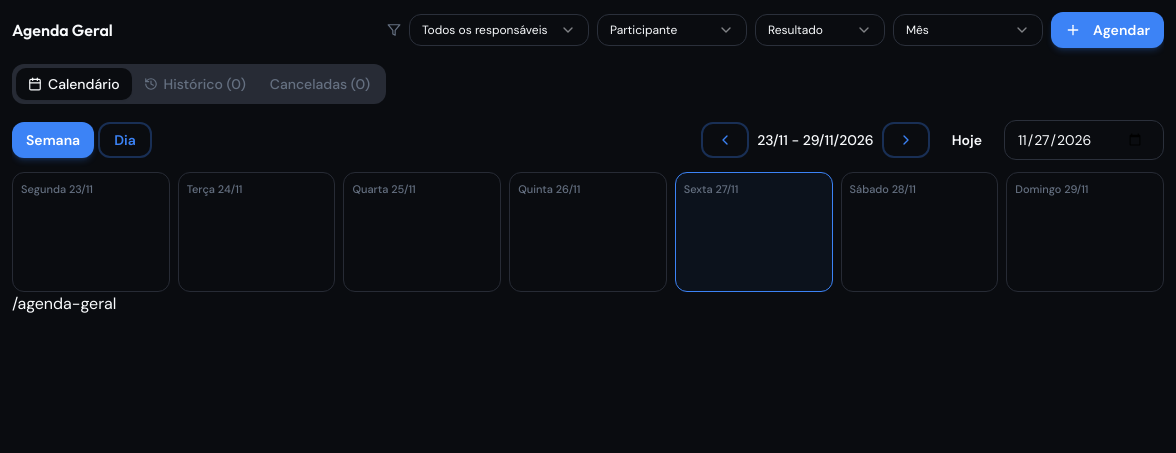
isolates a day and preserves blocks when navigating across weeks
Click the button "Dia" at (125, 140), box [98,122,152,158]
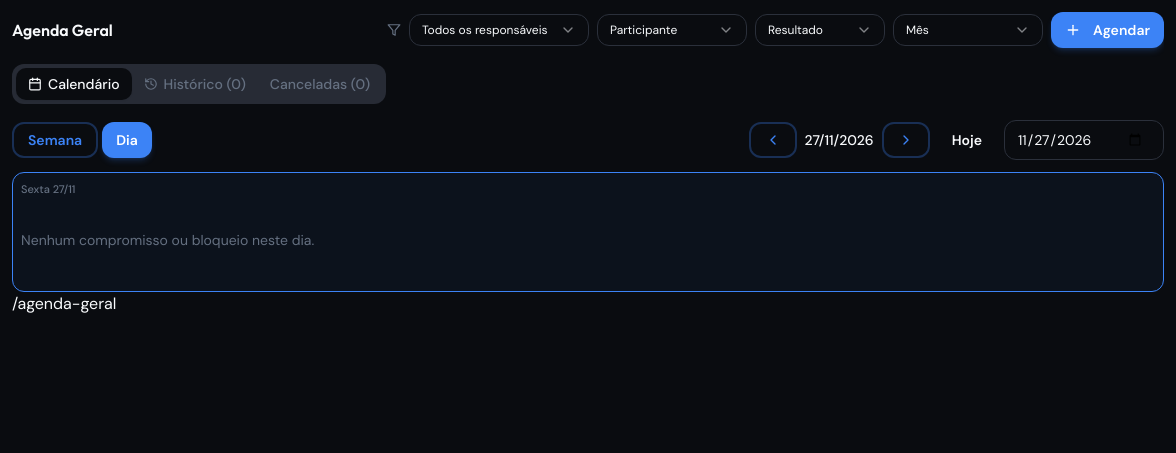
Type "2026-10-25" into the date field named "Data da agenda" at (1084, 140), box [1004,120,1164,160]
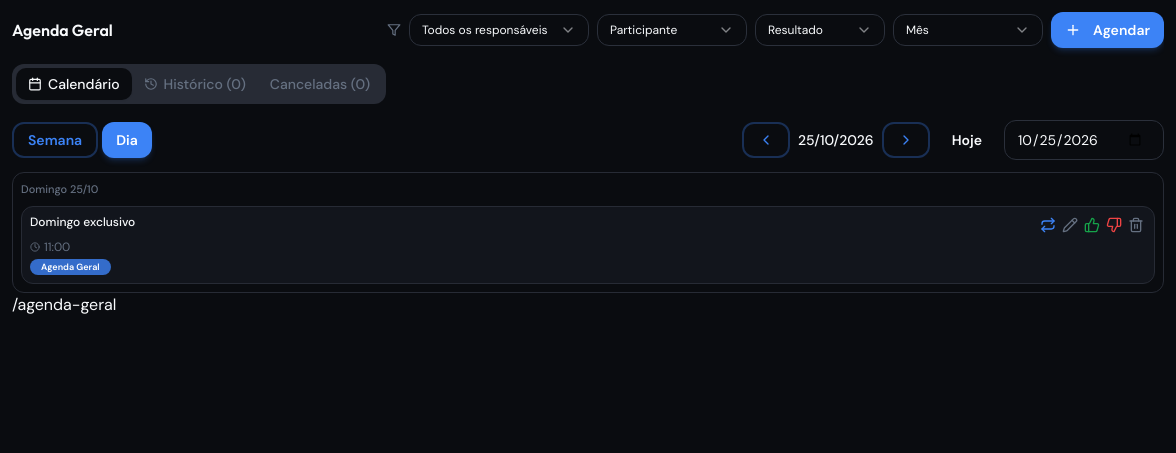
Expected: the text "Segunda exclusiva" is not shown
Now the text "Domingo exclusivo" is shown, box [30,214,135,230]
Click the button named "Próximo dia" at (906, 140), box [882,122,930,158]
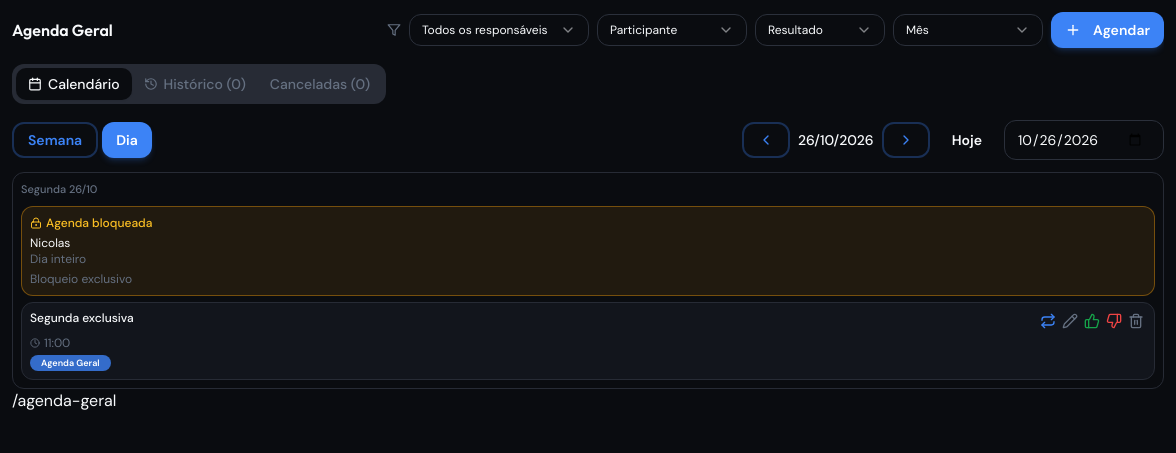
Now the text "Domingo exclusivo" is gone
Now the text "Segunda exclusiva" is shown, box [30,310,134,326]
Now the text "Bloqueio exclusivo" is shown, box [30,270,132,286]
Click the button named "Próximo dia" at (906, 140), box [882,122,930,158]
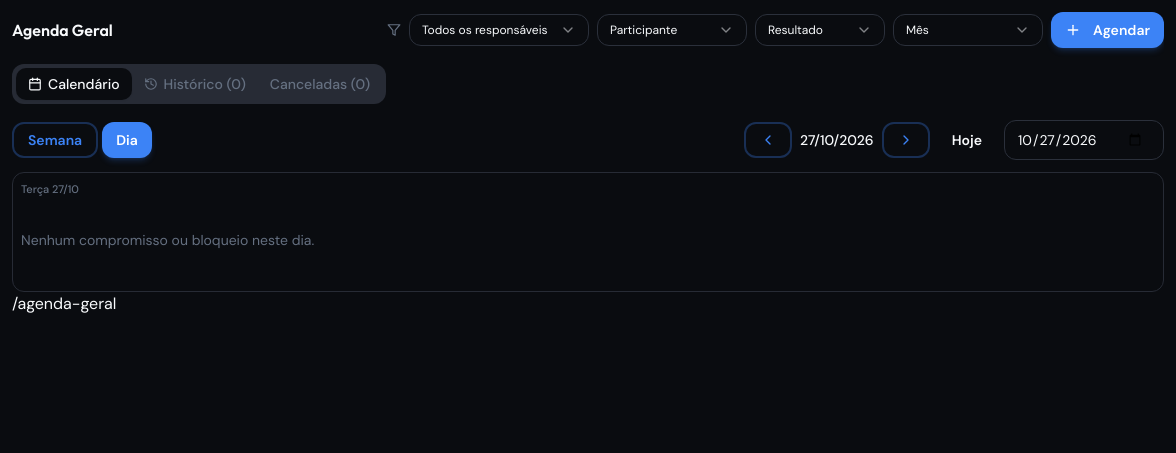
Now the text "Nenhum compromisso ou bloqueio neste dia." is shown, box [21,230,314,248]
Click the button "Semana" at (55, 140), box [12,122,98,158]
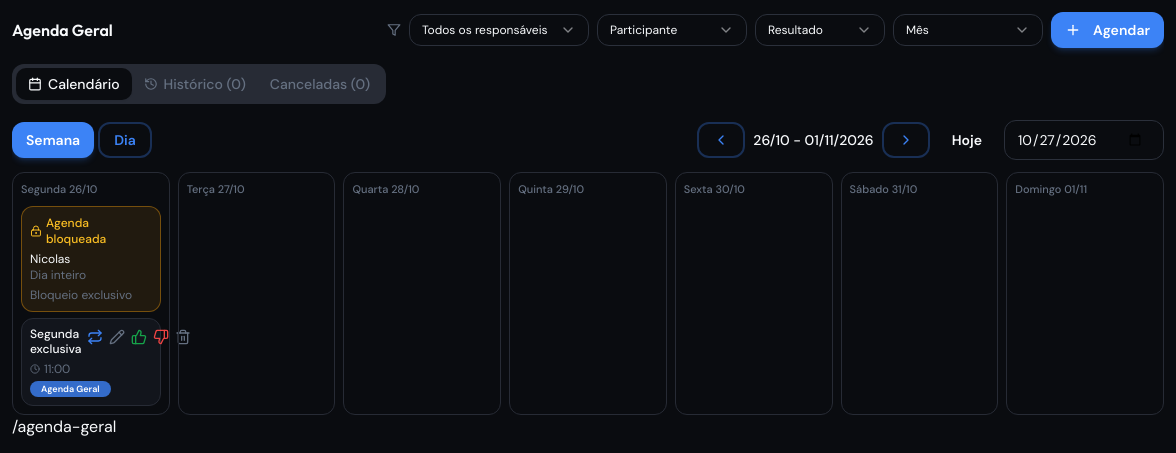
Now the text "Segunda exclusiva" is shown, box [30,326,81,356]
